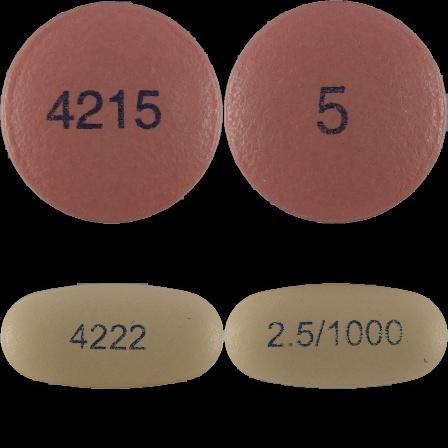0310-6105: (0, 0, 224, 224)
